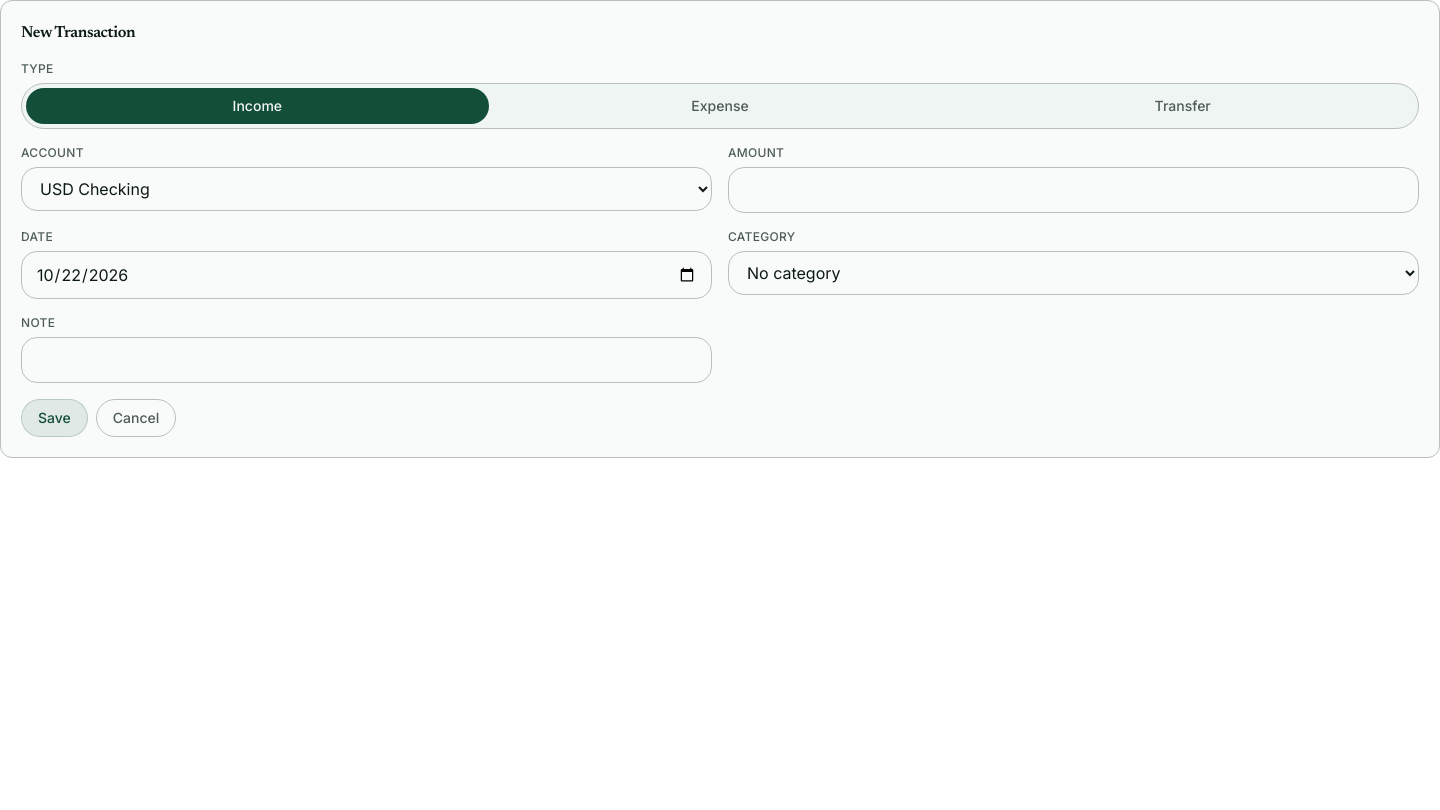
Test: Automatic conversion › auto-fills the destination amount after the debounce, rounded to VND's 0 fraction digits
This screenshot has width=1440, height=810.
Click the radio button labelled "Transfer": (1183, 106) [951,88,1414,124]
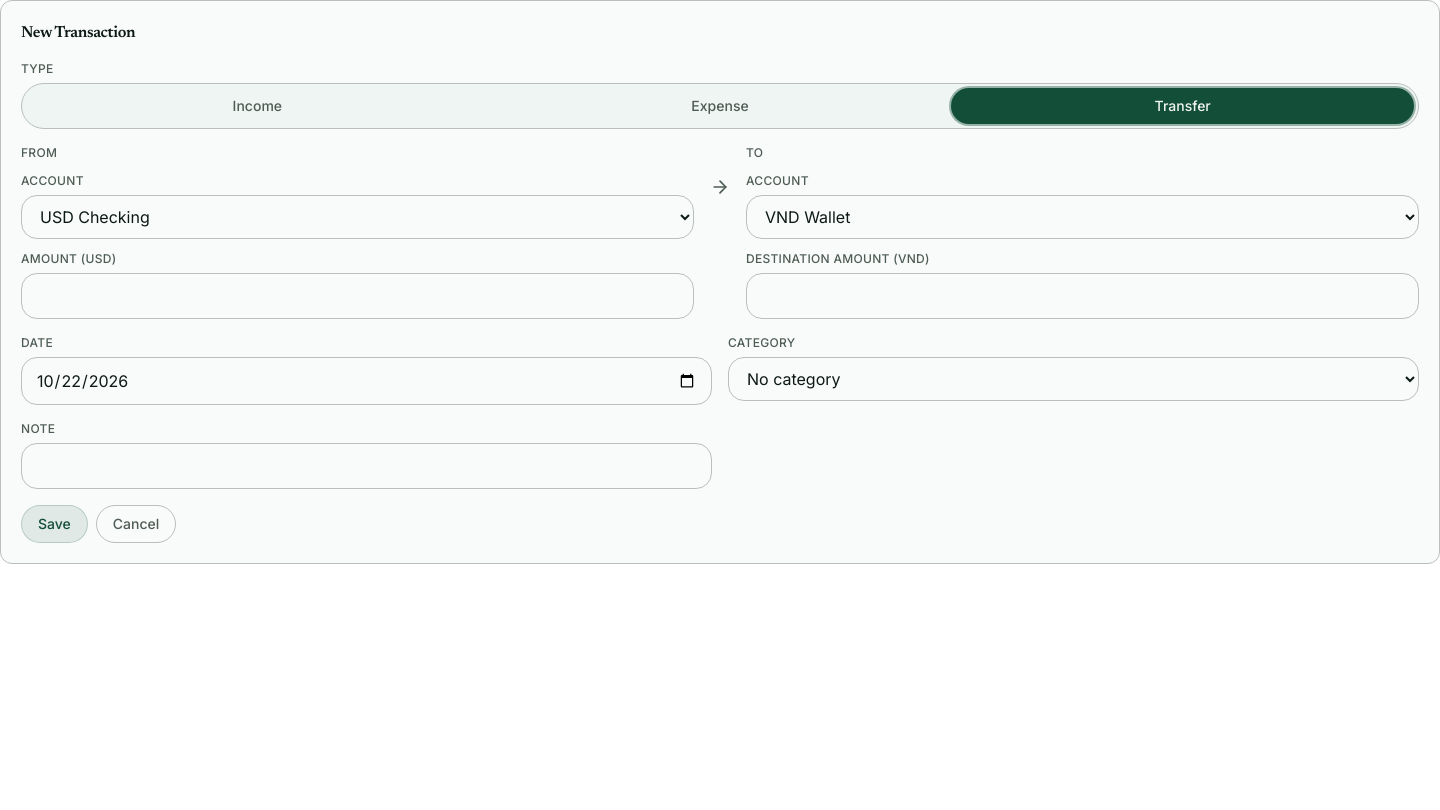
In the number field labelled "Amount (USD)": (358, 296) [21,273,694,319], type "500"
Wait 600 ms
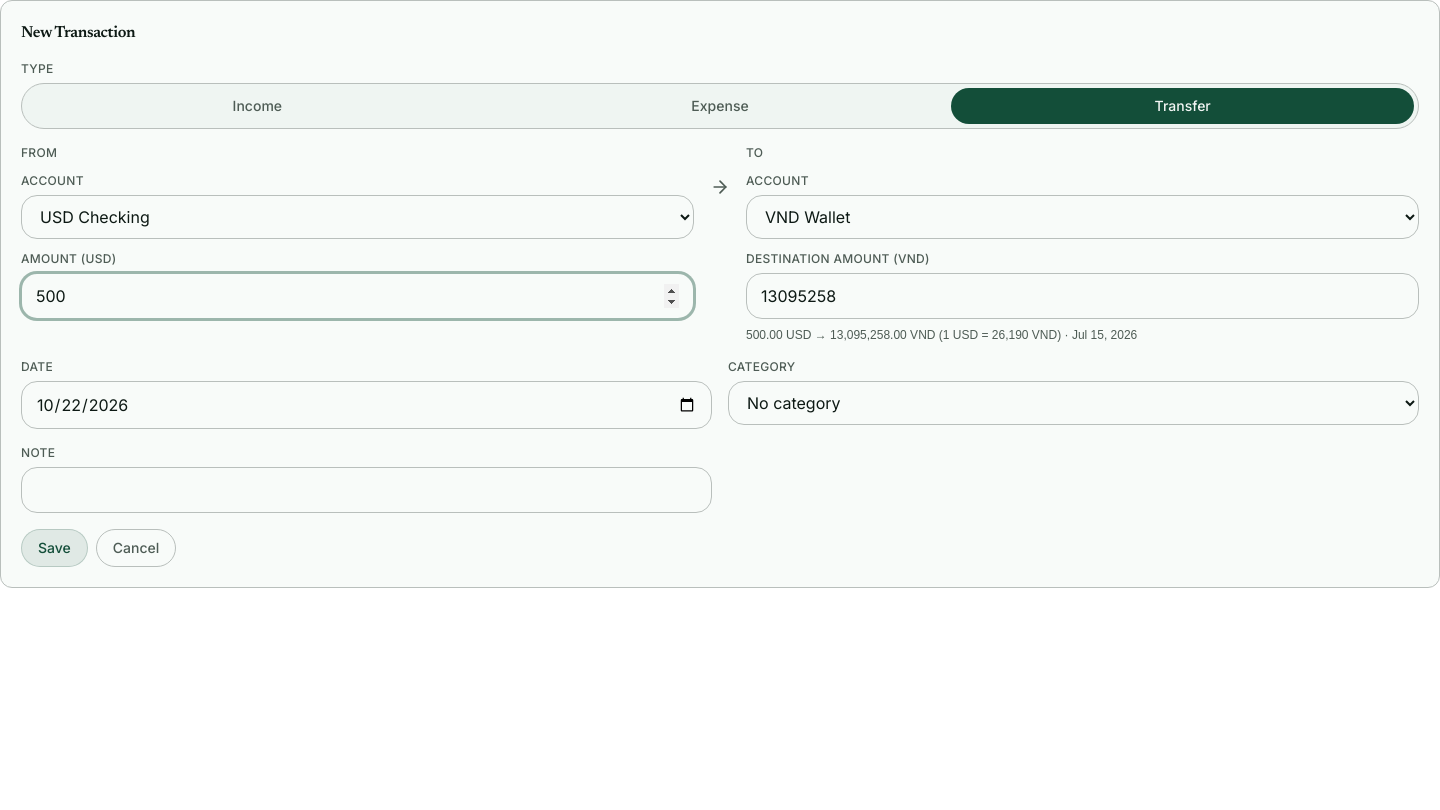
Expected: the number field labelled "Destination Amount (VND)" holds "13095258", [746,273,1419,319]
